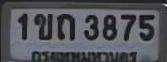1: (17, 12, 27, 39)
3: (83, 14, 98, 40)
5: (138, 14, 154, 40)
7: (120, 13, 135, 40)
8: (102, 14, 116, 39)
A02: (33, 13, 52, 39)
A22: (56, 13, 74, 40)
BKK: (29, 49, 140, 62)
